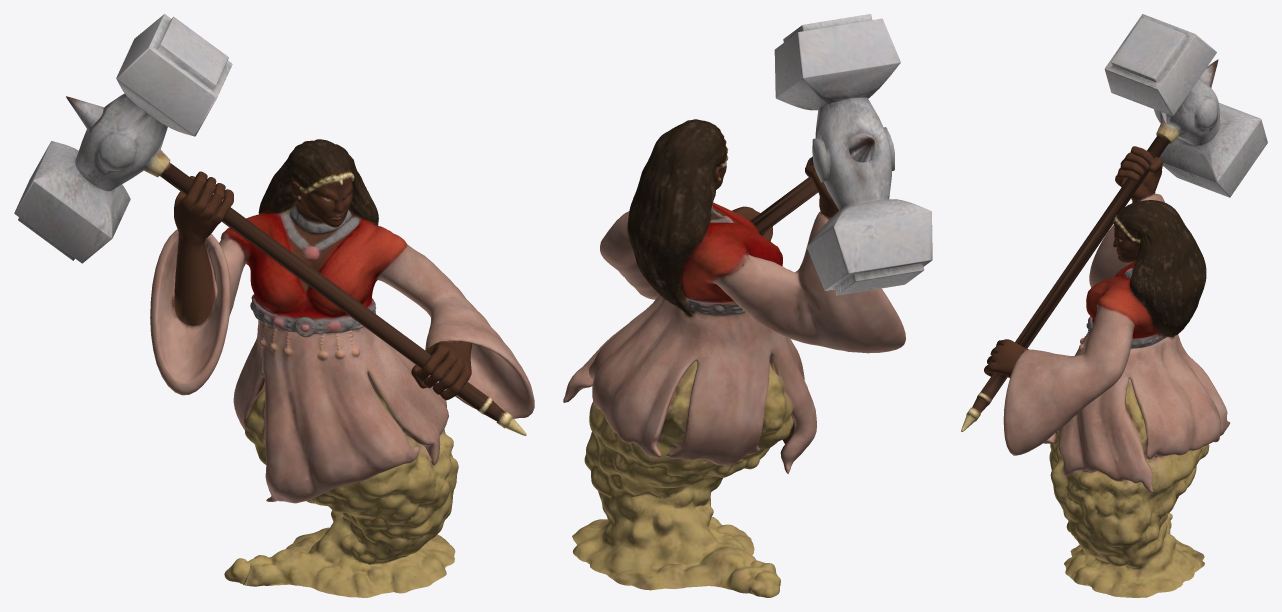
Rendered from MZ4250 - Dao.glb.
3 views of the same model, side by side, from view 1: azimuth 30°, elevation 25°; view 2: azimuth 150°, elevation 25°; view 3: azimuth 270°, elevation 25° (orthographic). The views are drawn at different scales.
Parts seen in each view (by area): view 1: default; view 2: default; view 3: default.
Boxes of the visible parts, x1,y1,x2,y2 form: default: (14,14,534,597); default: (563,14,932,597); default: (961,14,1267,597).
Size of the model in its own units: 1.18 by 1.6 by 0.9561.
Materials: 1 (1 with a texture image).
